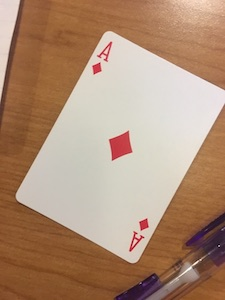AceOfDiamonds: (12, 27, 224, 265)
